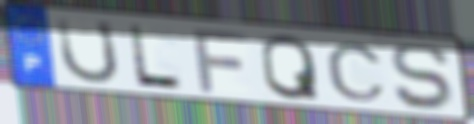C: (323, 41, 390, 104)
F: (189, 26, 251, 95)
L: (125, 22, 187, 92)
Q: (259, 32, 323, 102)
S: (388, 43, 453, 112)
U: (54, 15, 122, 86)
